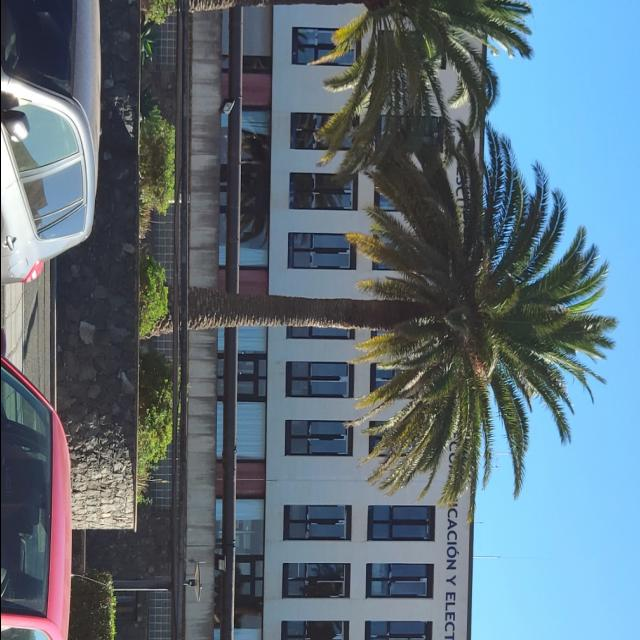Palm-Trees: (146, 118, 618, 514)
